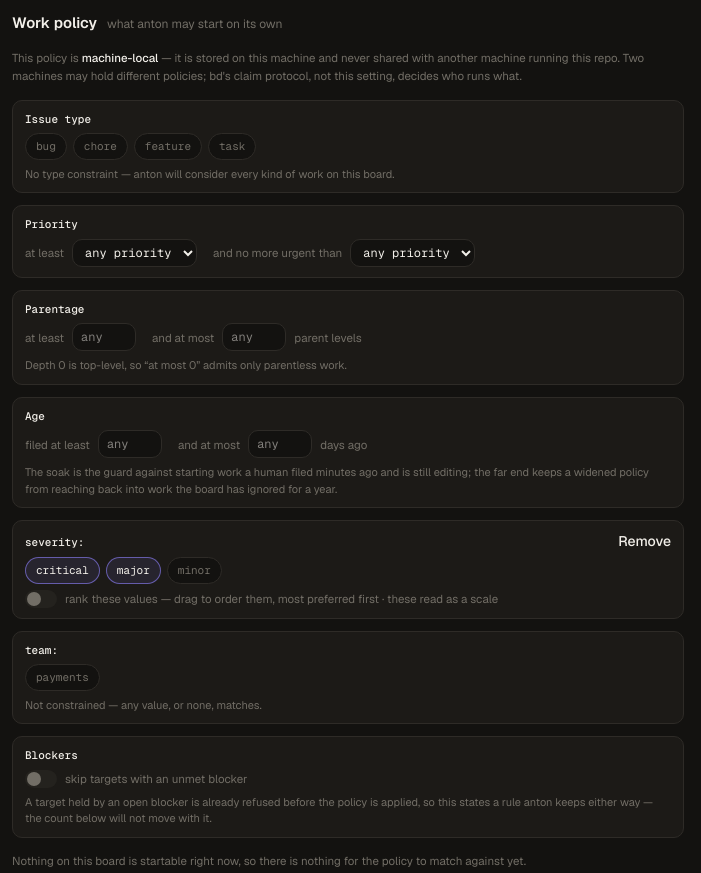
Scenario: ranking a namespace's values (R2.3) › refuses a drop that would move a value between namespaces
The image size is (701, 873).
Click the switch named "Rank severity: values": click(41, 599) [25,590,57,608]
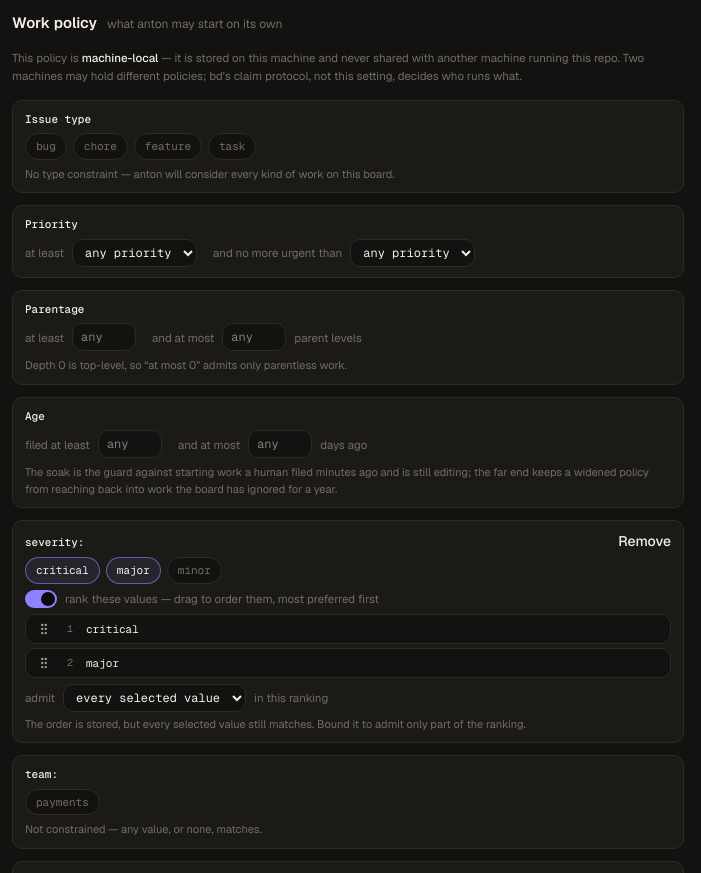
Expected: the list item named "Reorder severity:critical" shows "1", [67,622,73,635]
